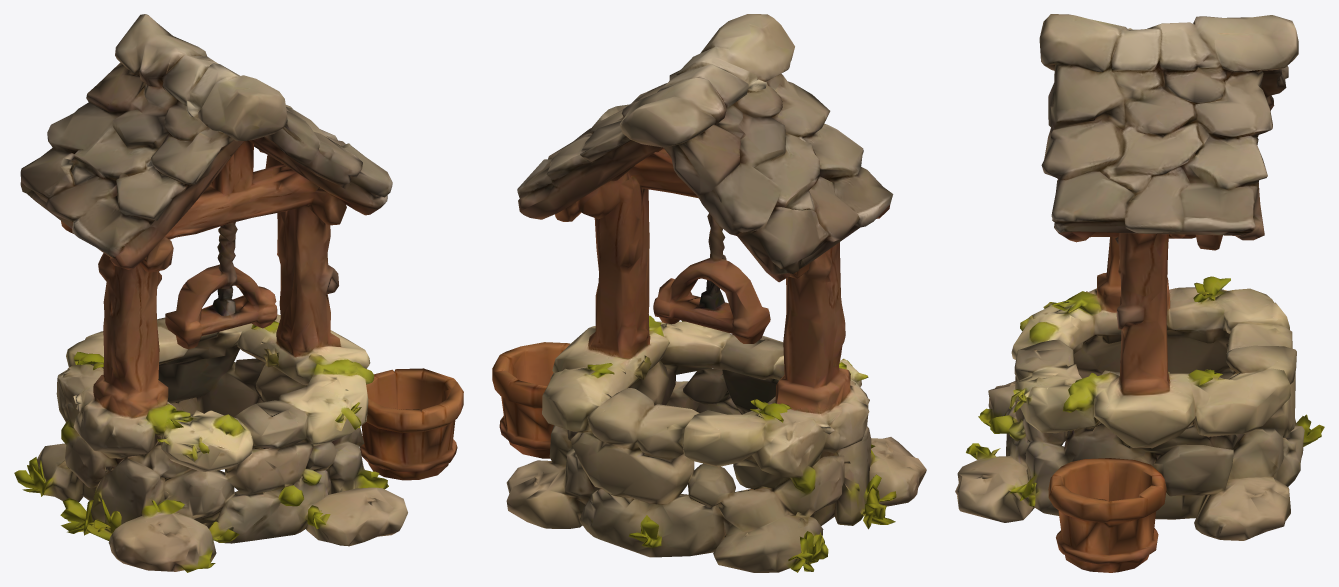
The model's file is tripo-poco154.glb.
The picture shows the model from 3 angles, left to right: view 1: azimuth 30°, elevation 25°; view 2: azimuth 150°, elevation 25°; view 3: azimuth 270°, elevation 25°; orthographic projection. The views are drawn at different scales.
Parts seen in each view (by area): view 1: tripo_node_81e19101-522e-4bb0-9f6a-30955b50fafb; view 2: tripo_node_81e19101-522e-4bb0-9f6a-30955b50fafb; view 3: tripo_node_81e19101-522e-4bb0-9f6a-30955b50fafb.
Part boxes in pixels (x1,y1,x2,y2): tripo_node_81e19101-522e-4bb0-9f6a-30955b50fafb: [14, 14, 463, 572]; tripo_node_81e19101-522e-4bb0-9f6a-30955b50fafb: [492, 14, 926, 572]; tripo_node_81e19101-522e-4bb0-9f6a-30955b50fafb: [955, 14, 1324, 572].
Bounding box in the file's own units: 0.9114 × 0.9781 × 0.7308.
1 material, 1 textured.
